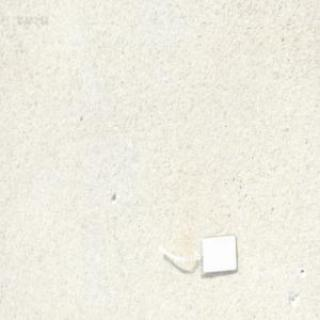LuggageTagtrack_idkeyframe: (155, 230, 237, 276)
